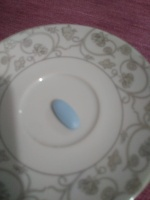Apranax: (51, 98, 81, 131)
